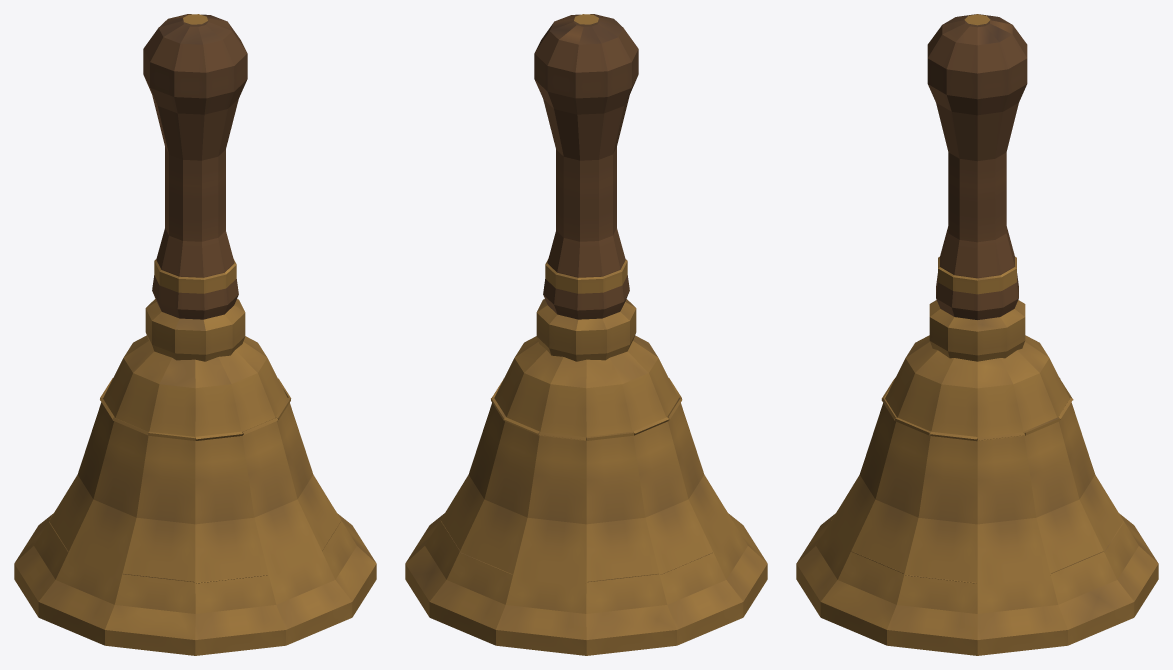
Rendered from Handbell.obj.
3 renders of one model, left to right at view 1: azimuth 30°, elevation 25°; view 2: azimuth 150°, elevation 25°; view 3: azimuth 270°, elevation 25°, orthographic.
Visible parts, largest first — view 1: Handbell_BrassShell, Handbell_WalnutHandle; view 2: Handbell_BrassShell, Handbell_WalnutHandle; view 3: Handbell_BrassShell, Handbell_WalnutHandle.
Part boxes in pixels (box(x1,y1,x2,y2)): Handbell_BrassShell: box(14, 299, 376, 655); Handbell_WalnutHandle: box(143, 14, 247, 319); Handbell_BrassShell: box(405, 299, 767, 655); Handbell_WalnutHandle: box(534, 14, 638, 319); Handbell_BrassShell: box(796, 300, 1158, 655); Handbell_WalnutHandle: box(927, 14, 1027, 319).
Size of the model in its own units: 0.166 by 0.285 by 0.166.
Materials: 3 (3 with a texture image).
